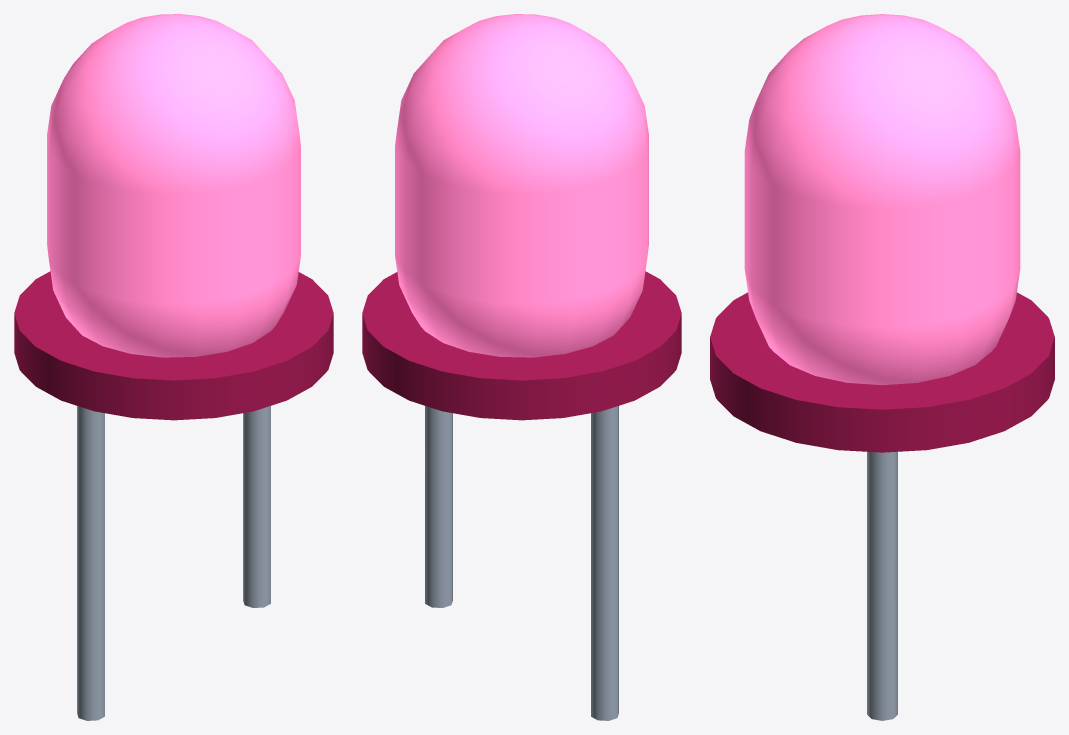
File: led-pink.gltf
The picture shows the model from 3 angles, left to right: view 1: azimuth 30°, elevation 25°; view 2: azimuth 150°, elevation 25°; view 3: azimuth 270°, elevation 25°; orthographic projection. The views are drawn at different scales.
Parts seen in each view (by area): view 1: lens, collar, anode, cathode; view 2: lens, collar, anode, cathode; view 3: lens, collar, cathode.
Part boxes in pixels (x1,y1,x2,y2): lens: [47, 14, 300, 357]; collar: [14, 271, 333, 420]; anode: [77, 406, 104, 720]; cathode: [243, 406, 270, 607]; lens: [395, 14, 648, 357]; collar: [362, 271, 681, 420]; anode: [591, 406, 618, 720]; cathode: [425, 406, 452, 607]; lens: [744, 14, 1020, 385]; collar: [710, 292, 1054, 452]; cathode: [867, 451, 897, 720].
Bounding box in the file's own units: 0.4 × 0.925 × 0.4.
